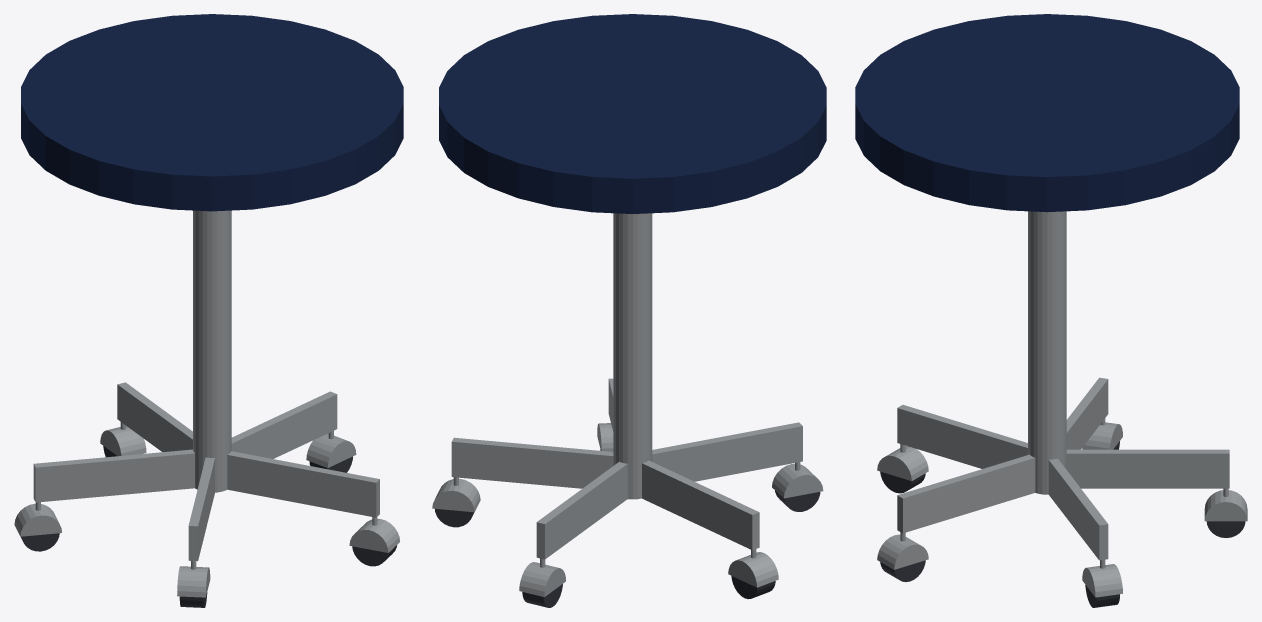
File: Surgical Stool.fbx
3 renders of one model, left to right at view 1: azimuth 30°, elevation 25°; view 2: azimuth 150°, elevation 25°; view 3: azimuth 270°, elevation 25°, orthographic.
Visible parts, largest first — view 1: Group1, Group2, Group3; view 2: Group1, Group2, Group3; view 3: Group1, Group2, Group3.
Boxes of the visible parts, <box> form: Group1: <box>21,14,403,211</box>; Group2: <box>14,210,399,597</box>; Group3: <box>21,446,396,607</box>; Group1: <box>439,14,826,213</box>; Group2: <box>432,213,823,597</box>; Group3: <box>435,449,820,607</box>; Group1: <box>855,14,1239,212</box>; Group2: <box>877,211,1247,597</box>; Group3: <box>880,441,1245,607</box>.
Bounding box in the file's own units: 0.5123 × 0.635 × 0.5158.
